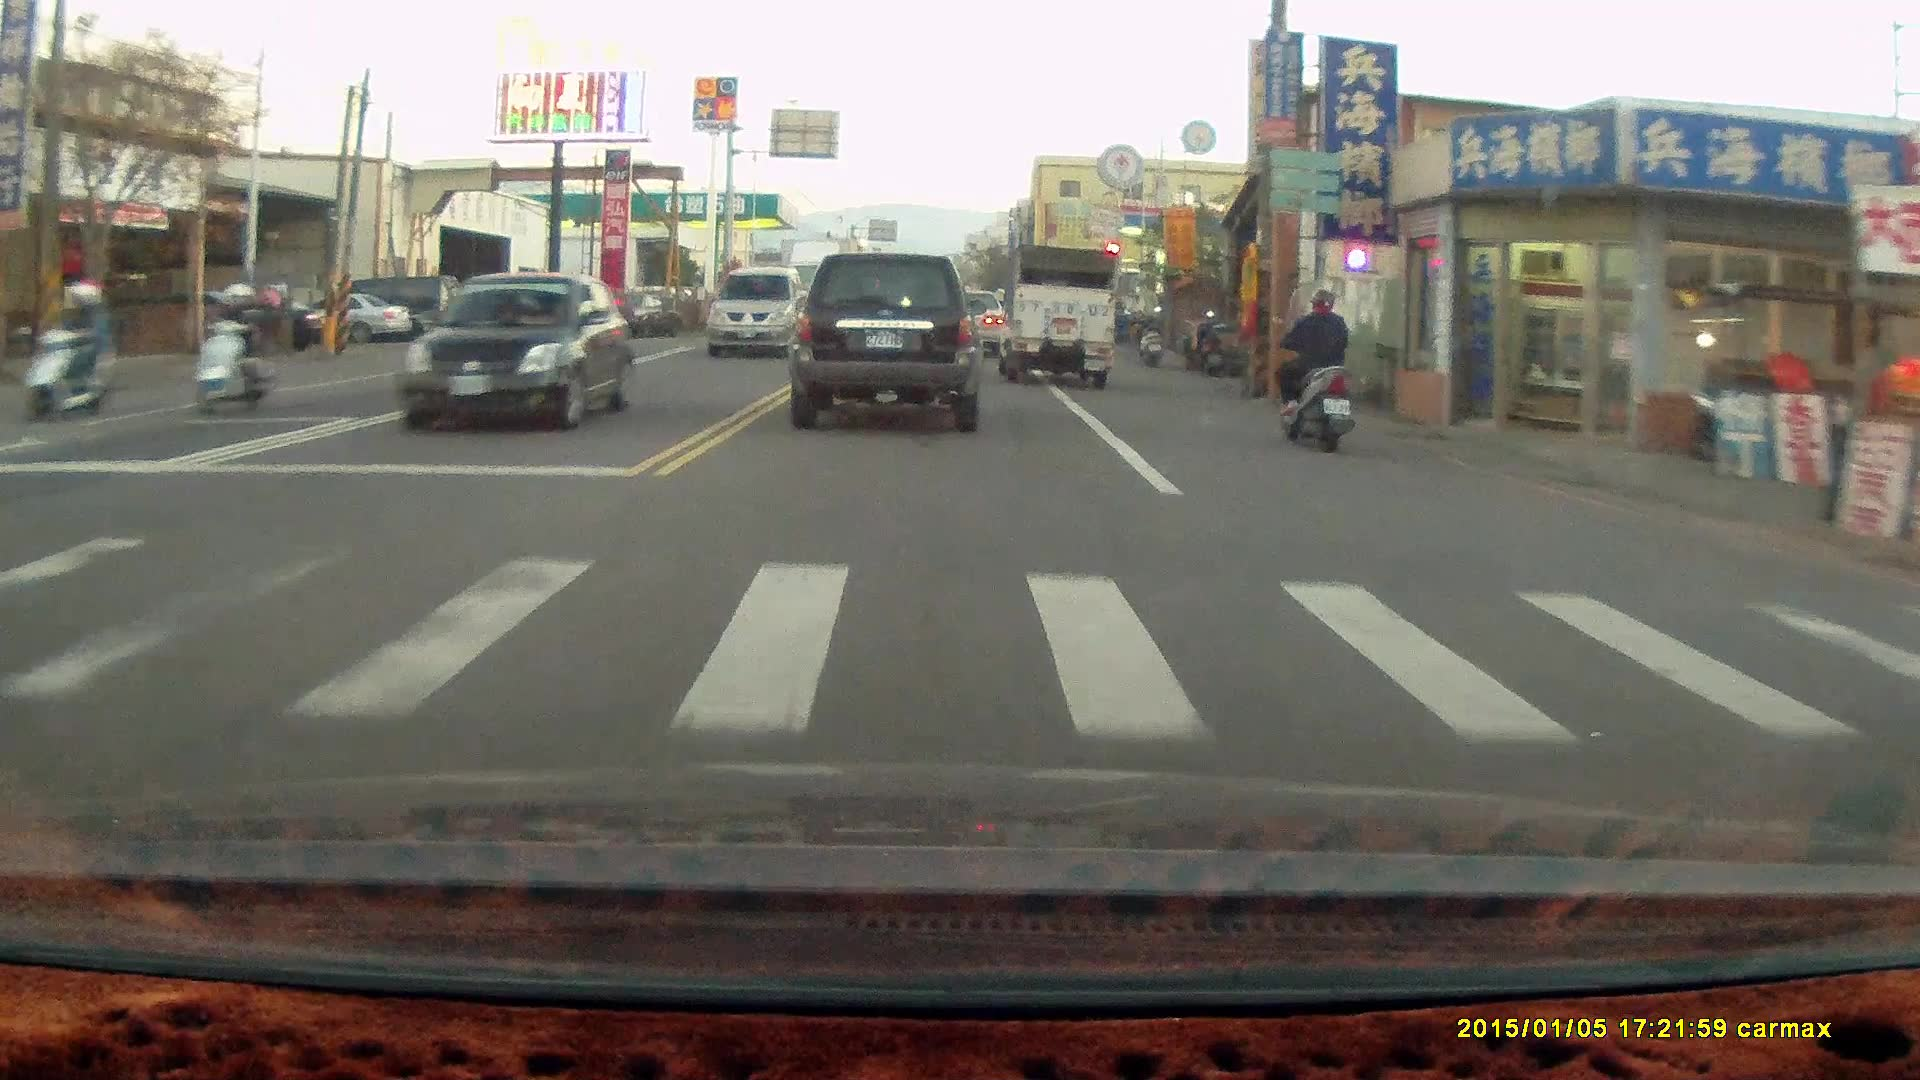rider: (1264, 275, 1357, 442), (20, 274, 115, 425), (186, 271, 286, 410)
vehicle: (401, 270, 638, 426), (786, 252, 983, 433), (993, 243, 1116, 390), (705, 264, 812, 358), (463, 287, 585, 355)
